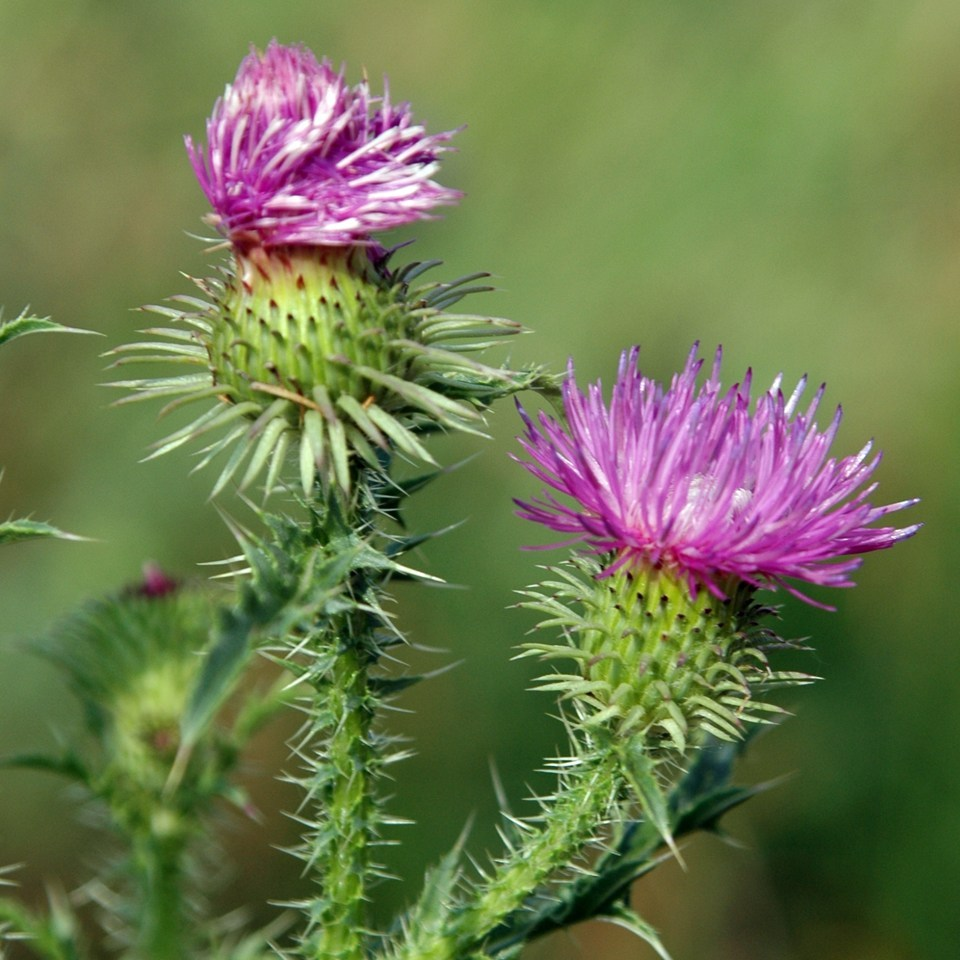thistle: (517, 348, 923, 771), (178, 42, 512, 489)
